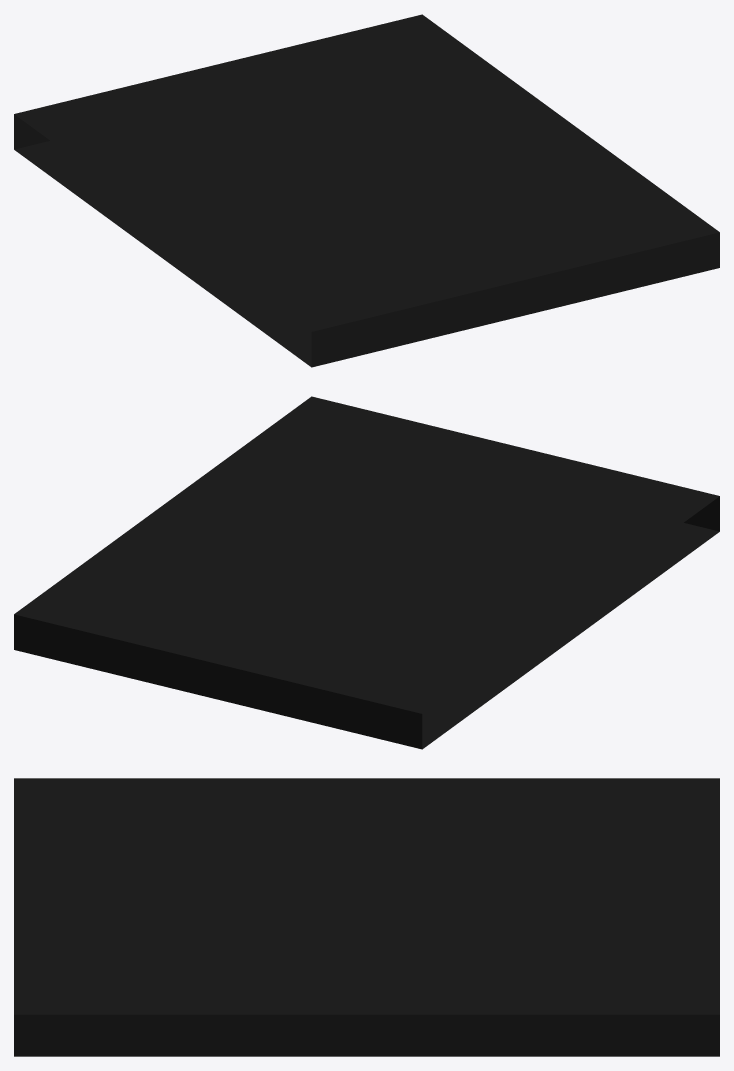
The model's file is Itr_Bartable_Top_Right_03.FBX.
3 renders of one model, top to bottom at view 1: azimuth 30°, elevation 25°; view 2: azimuth 150°, elevation 25°; view 3: azimuth 270°, elevation 25°, orthographic. The views are drawn at different scales.
Parts seen in each view (by area): view 1: Itr_Bartable_Top_Right_03; view 2: Itr_Bartable_Top_Right_03; view 3: Itr_Bartable_Top_Right_03.
Boxes of the visible parts, box(x1,y1,x2,y2) form: Itr_Bartable_Top_Right_03: box(14, 14, 719, 367); Itr_Bartable_Top_Right_03: box(14, 396, 719, 749); Itr_Bartable_Top_Right_03: box(14, 778, 719, 1056).
Bounding box in the file's own units: 26.31 × 2.19 × 33.21.
